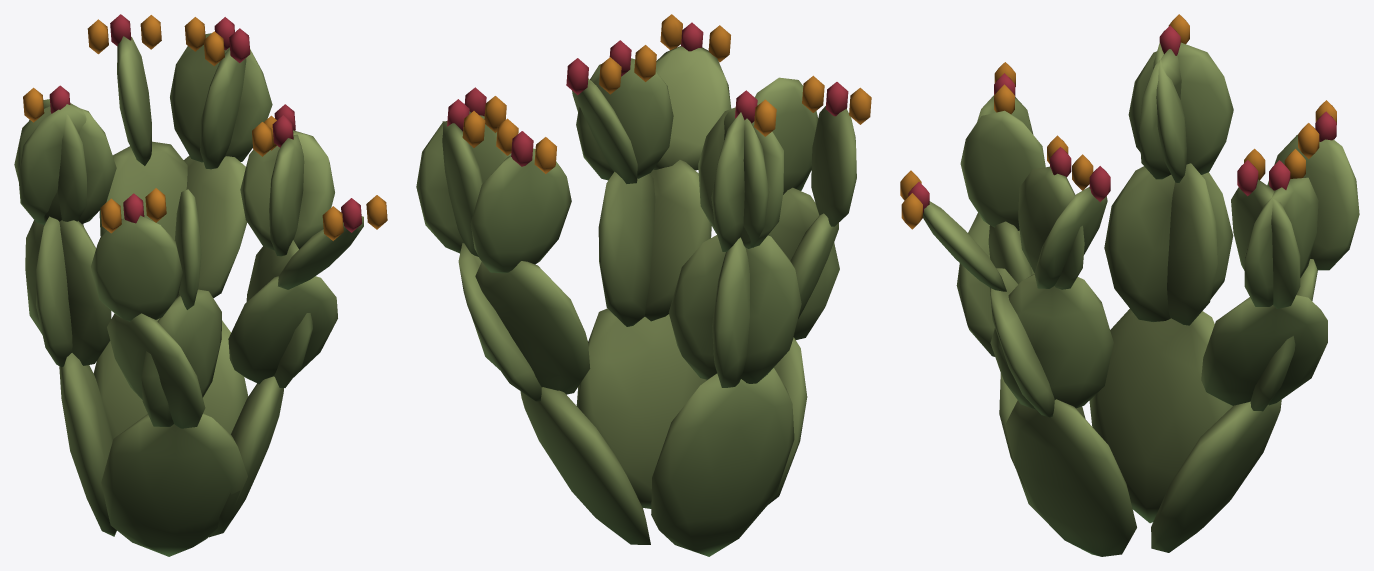
File: prickly_pear.glb
The picture shows the model from 3 angles, left to right: view 1: azimuth 30°, elevation 25°; view 2: azimuth 150°, elevation 25°; view 3: azimuth 270°, elevation 25°; orthographic projection. The views are drawn at different scales.
Parts seen in each view (by area): view 1: prickly_pear_mesh; view 2: prickly_pear_mesh; view 3: prickly_pear_mesh.
Part boxes in pixels (left/top/right/bottom): prickly_pear_mesh: left=14, top=14, right=387, bottom=556; prickly_pear_mesh: left=416, top=14, right=871, bottom=556; prickly_pear_mesh: left=900, top=14, right=1359, bottom=556.
Bounding box in the file's own units: 1.55 × 2.36 × 2.06.
